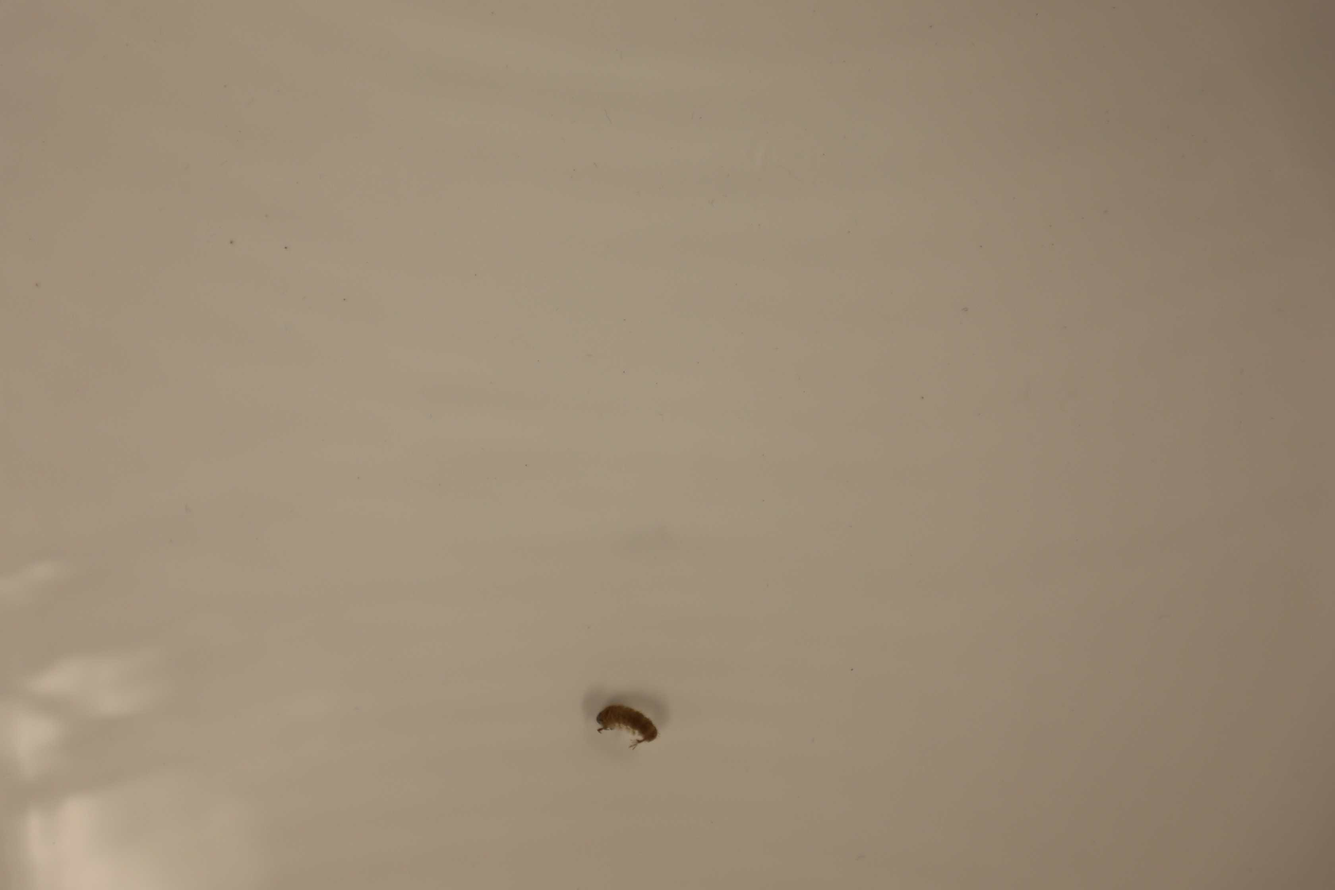Cadisfly: (589, 702, 664, 755)
